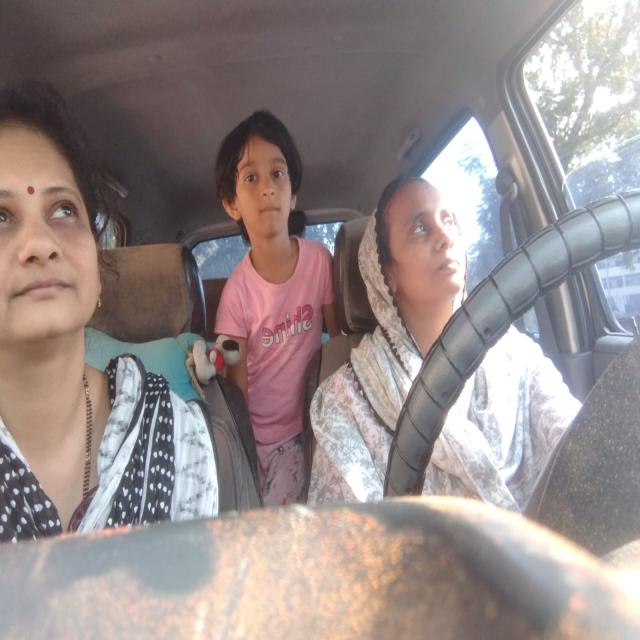LeftRight: (369, 182, 467, 296)
person: (0, 94, 101, 346), (216, 104, 302, 250)
